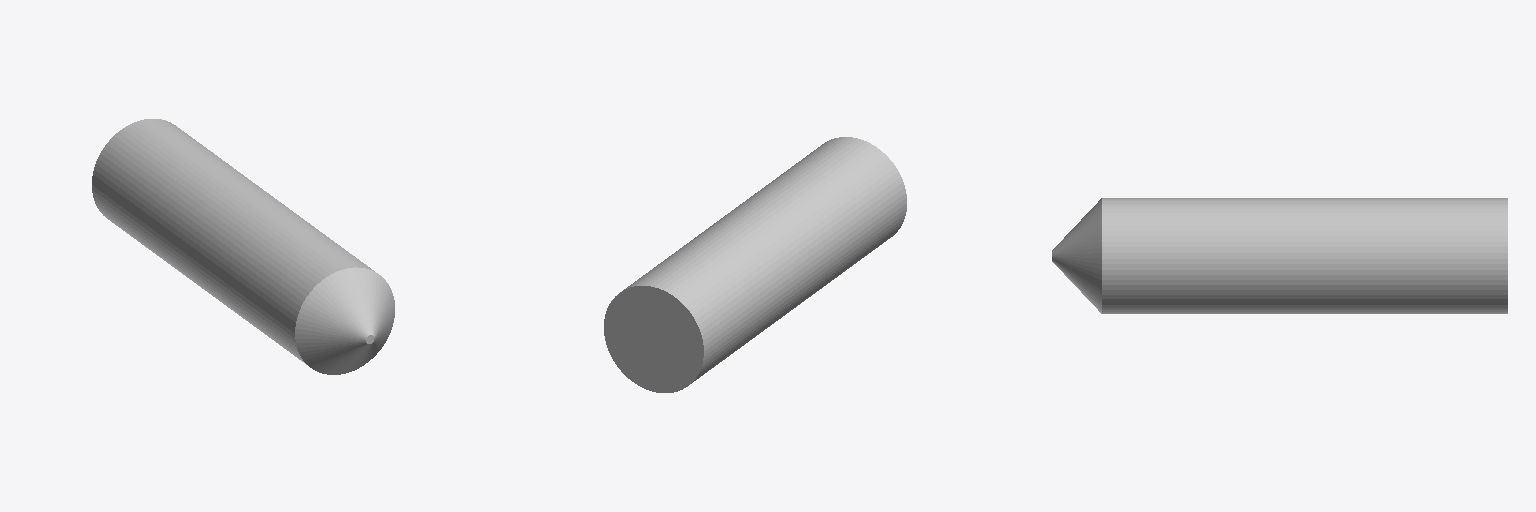
Rendered from Candle6.obj.
The picture shows the model from 3 angles: view 1: azimuth 30°, elevation 25°; view 2: azimuth 150°, elevation 25°; view 3: azimuth 270°, elevation 25°; orthographic projection.
Visible parts, largest first — view 1: Candle6_Cylinder.007; view 2: Candle6_Cylinder.007; view 3: Candle6_Cylinder.007.
Part boxes in pixels (left/top/right/bottom): Candle6_Cylinder.007: left=92, top=119, right=394, bottom=374; Candle6_Cylinder.007: left=604, top=137, right=906, bottom=392; Candle6_Cylinder.007: left=1052, top=198, right=1507, bottom=313.
Bounding box in the file's own units: 0.0708 × 0.0708 × 0.2792.